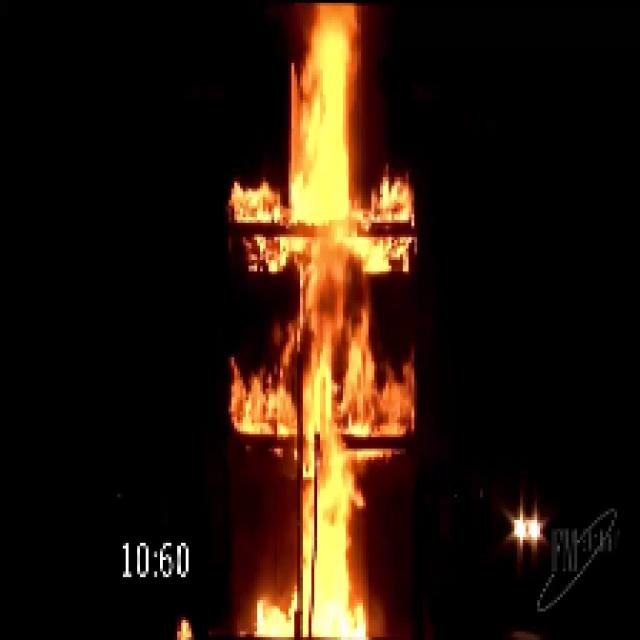fire: (279, 0, 380, 633)
